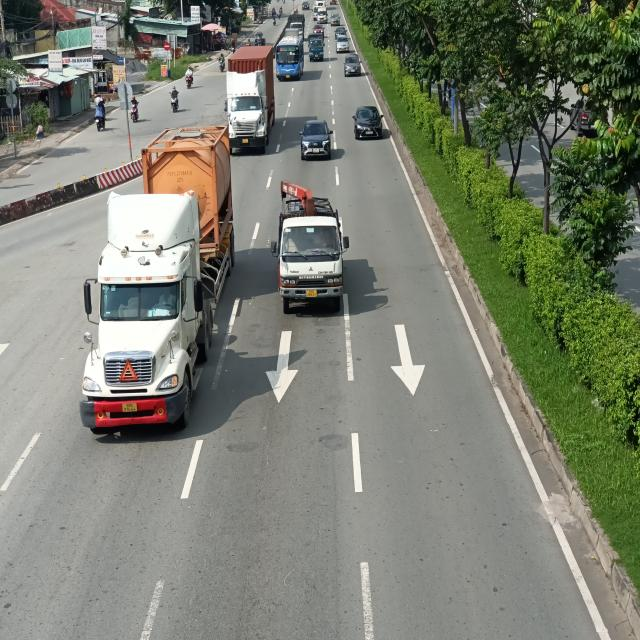car: (298, 115, 334, 160), (353, 105, 384, 139), (343, 53, 362, 76), (335, 35, 350, 52)
coach: (276, 35, 304, 80)
container: (82, 127, 237, 433), (225, 47, 274, 149)
truck: (269, 178, 349, 314), (308, 34, 325, 62)
van: (317, 6, 328, 24)
